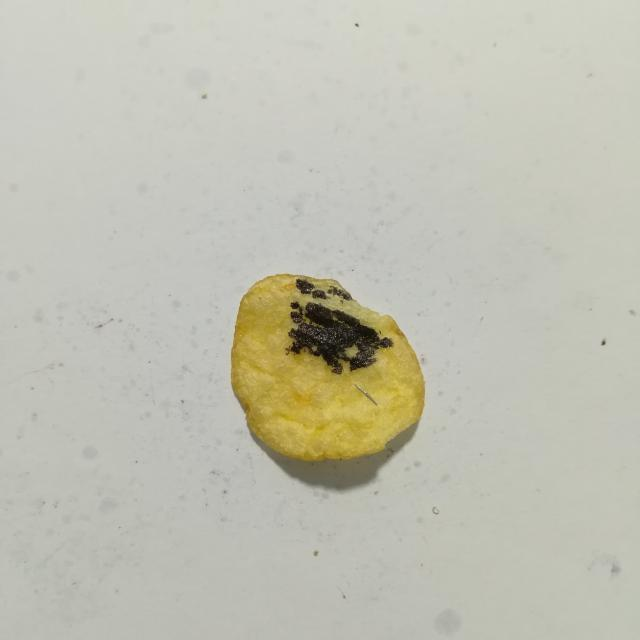chip: (231, 274, 424, 460)
damaged: (286, 302, 393, 374), (327, 286, 353, 300), (296, 279, 314, 294), (312, 290, 326, 299)
